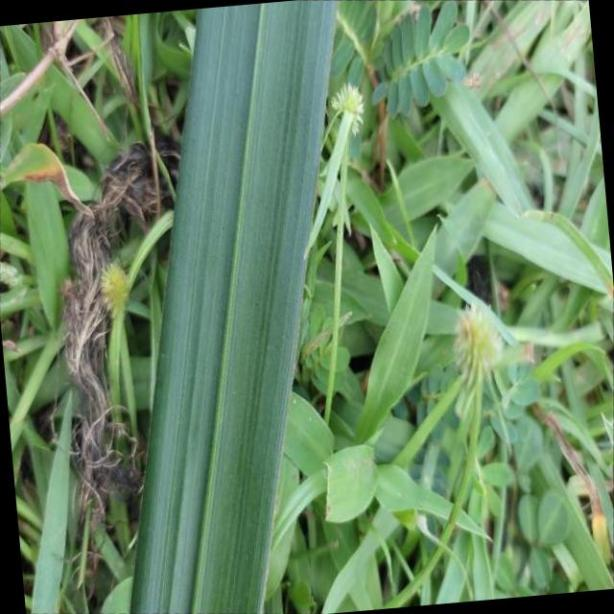Healthy: (133, 0, 345, 614)
